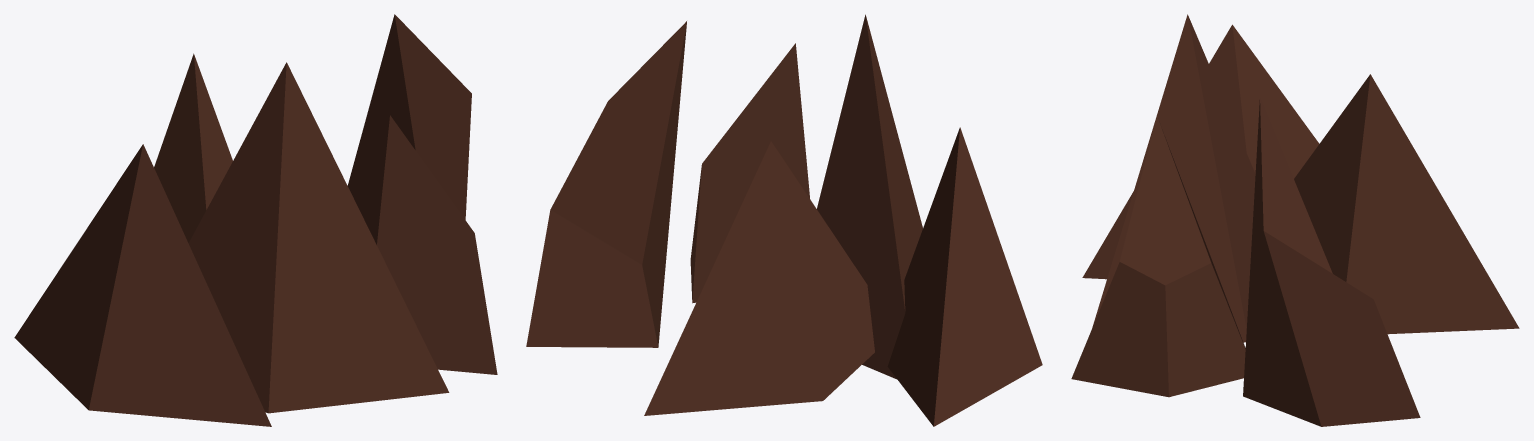
File: spike.fbx
3 renders of one model, left to right at view 1: azimuth 30°, elevation 25°; view 2: azimuth 150°, elevation 25°; view 3: azimuth 270°, elevation 25°, orthographic. The views are drawn at different scales.
Visible parts, largest first — view 1: pPyramid60; view 2: pPyramid60; view 3: pPyramid60.
Part boxes in pixels (<box>): pPyramid60: <box>14,14,497,426</box>; pPyramid60: <box>526,14,1042,426</box>; pPyramid60: <box>1071,14,1519,426</box>.
Bounding box in the file's own units: 84.71 × 58.61 × 78.27.
